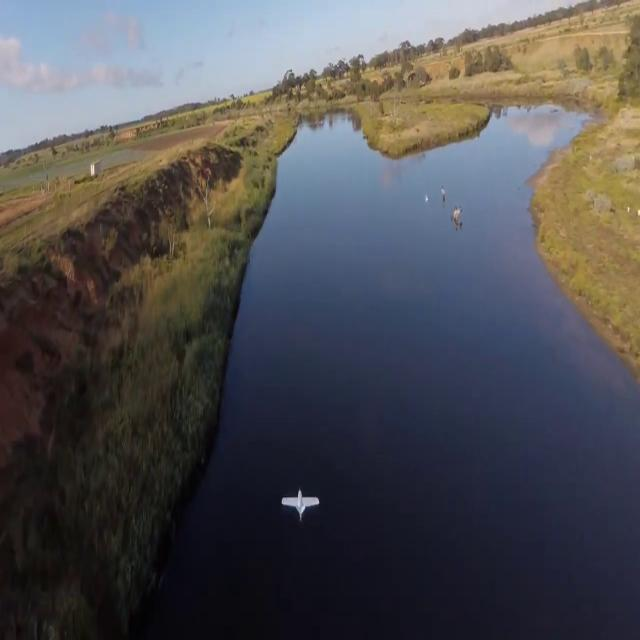iha: (279, 490, 321, 518)
